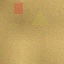structure: (31, 9, 49, 25)
vehicle: (13, 2, 22, 13)
